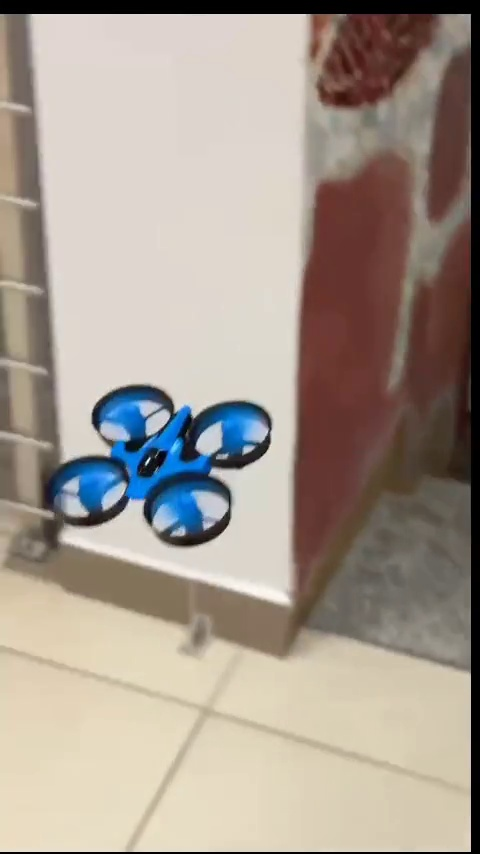drone: (48, 386, 275, 544)
